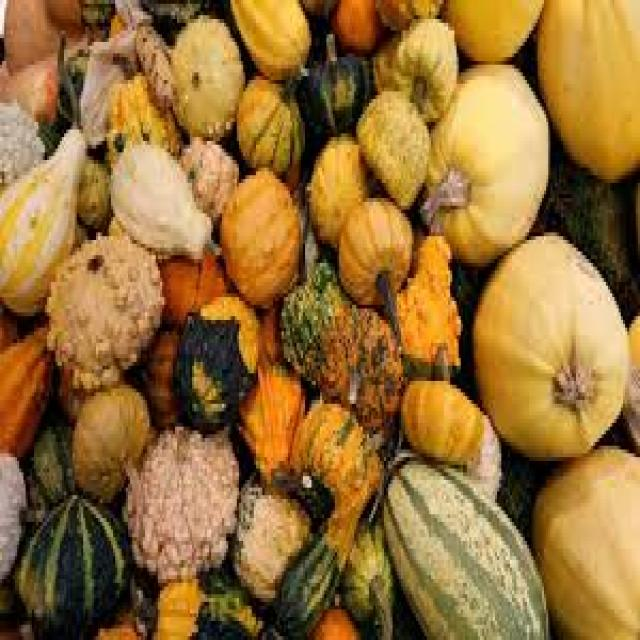biodegradable: (470, 225, 628, 457), (382, 454, 550, 637), (423, 61, 546, 263), (531, 438, 638, 636), (124, 415, 239, 583), (43, 221, 162, 381), (535, 0, 638, 175), (9, 492, 124, 637), (0, 118, 83, 312), (288, 396, 380, 568), (109, 137, 220, 259), (232, 309, 303, 480), (232, 305, 303, 476), (275, 255, 354, 404), (220, 164, 301, 301), (233, 465, 310, 606), (177, 286, 258, 419), (316, 305, 399, 434), (390, 229, 459, 374), (69, 381, 150, 503), (369, 12, 454, 118), (354, 88, 429, 202), (169, 11, 243, 126), (335, 194, 410, 305), (303, 126, 367, 248), (273, 518, 339, 636), (156, 568, 262, 636), (303, 31, 371, 134), (399, 373, 478, 461), (0, 320, 51, 453), (341, 514, 395, 636), (0, 42, 83, 118), (235, 69, 301, 164), (105, 69, 177, 156), (75, 31, 132, 137), (24, 412, 73, 534), (231, 0, 308, 76), (442, 0, 544, 57), (2, 0, 85, 69), (156, 251, 226, 320), (181, 133, 237, 217), (41, 38, 83, 145), (139, 316, 179, 423), (0, 99, 43, 179), (60, 362, 119, 419), (463, 404, 499, 495), (0, 449, 23, 579), (135, 23, 167, 114), (322, 0, 378, 50), (77, 152, 109, 225), (623, 301, 638, 442), (375, 0, 435, 30), (308, 602, 359, 636), (143, 0, 203, 27), (94, 606, 143, 636), (115, 0, 142, 34), (296, 0, 335, 23)
